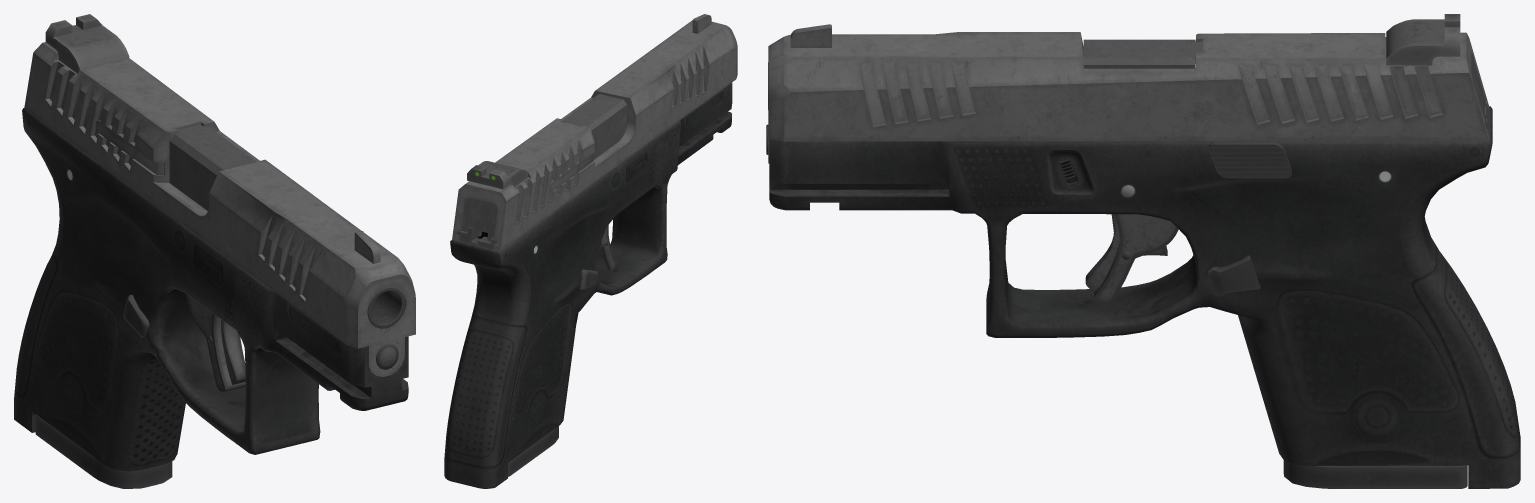
3 views of the same model, side by side, from view 1: azimuth 30°, elevation 25°; view 2: azimuth 150°, elevation 25°; view 3: azimuth 270°, elevation 25° (orthographic). The views are drawn at different scales.
Parts seen in each view (by area): view 1: Cylinder.003 (×2); view 2: Cylinder.003 (×2); view 3: Cylinder.003 (×2).
Part boxes in pixels (left/top/right/bottom): Cylinder.003 (×2): left=14, top=14, right=415, bottom=488; Cylinder.003 (×2): left=444, top=14, right=737, bottom=488; Cylinder.003 (×2): left=766, top=14, right=1520, bottom=488.
Size of the model in its own units: 0.3097 by 1.45 by 2.22.
2 materials, 2 textured.
